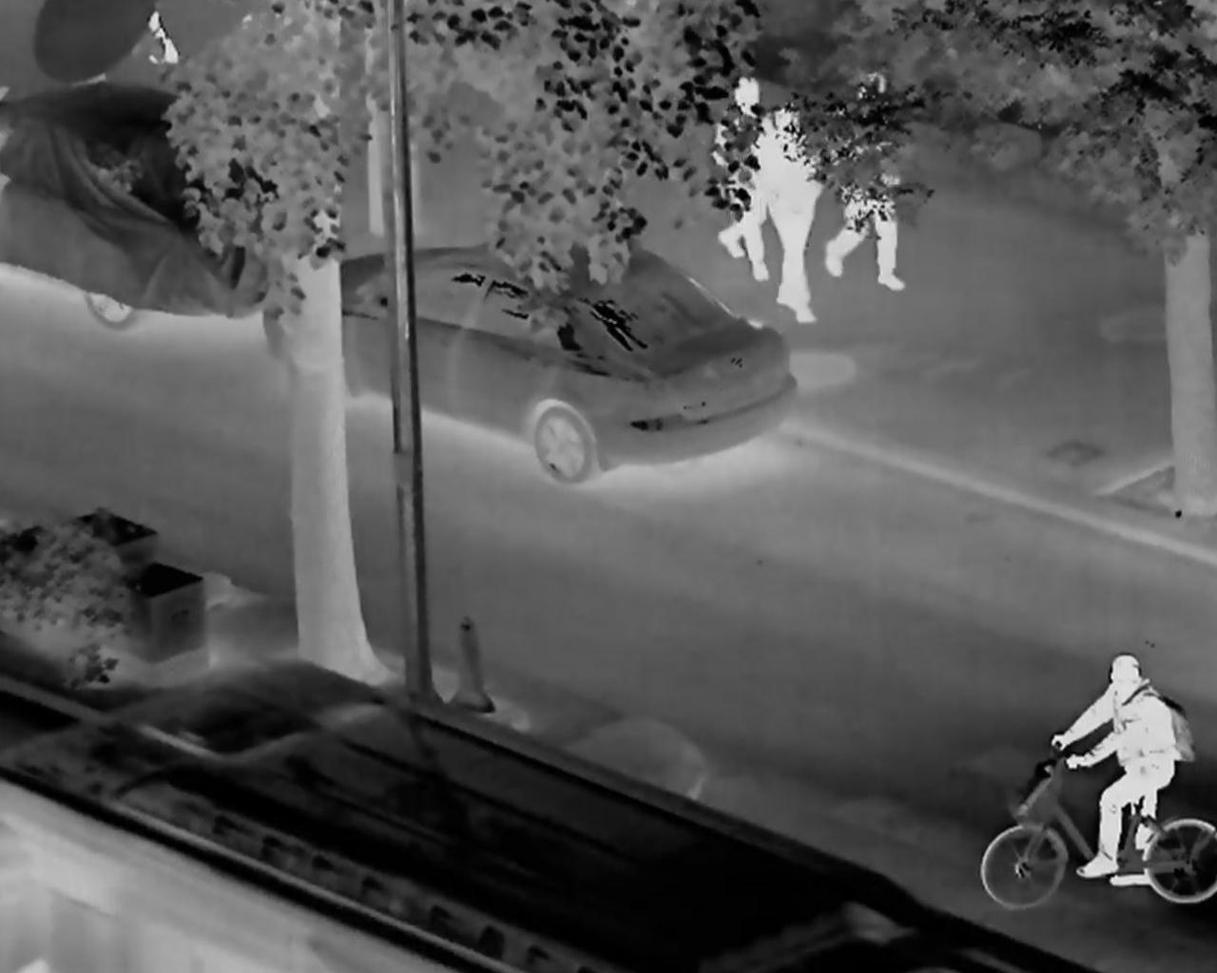person: (1051, 653, 1185, 887), (822, 72, 909, 295), (705, 74, 774, 280), (759, 107, 821, 329)
